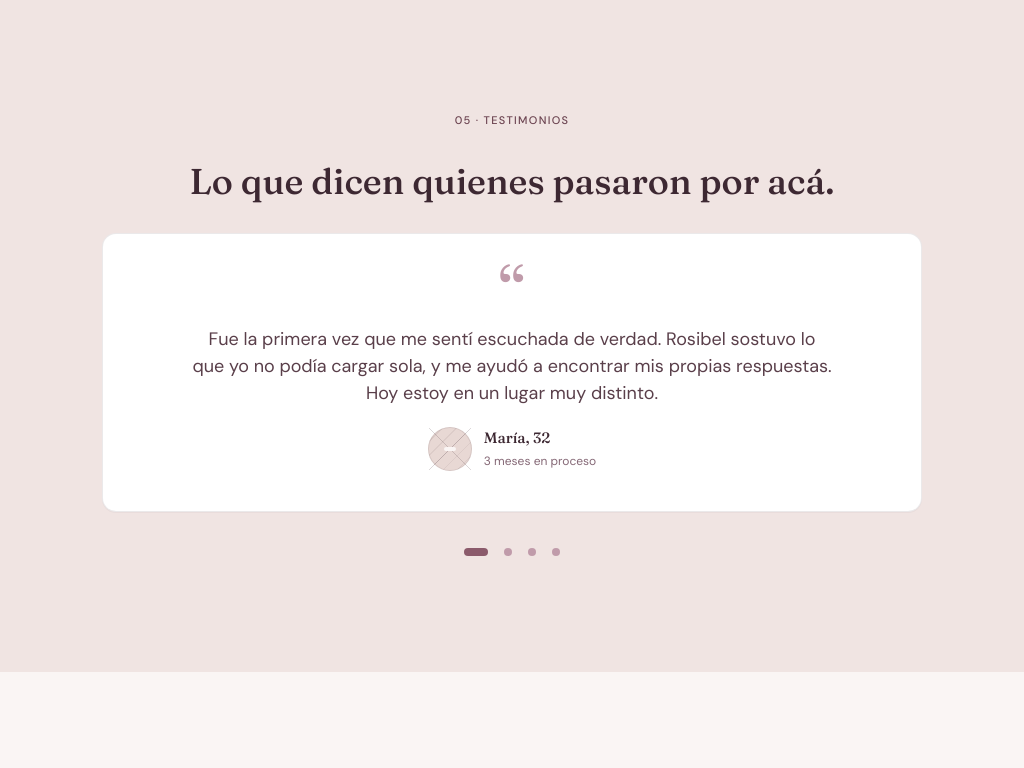
it: Testimonios section › changes testimonial when a pagination dot is clicked
Step 1. Click the button named "testimonio 3" → (532, 552), box [524, 544, 540, 560]
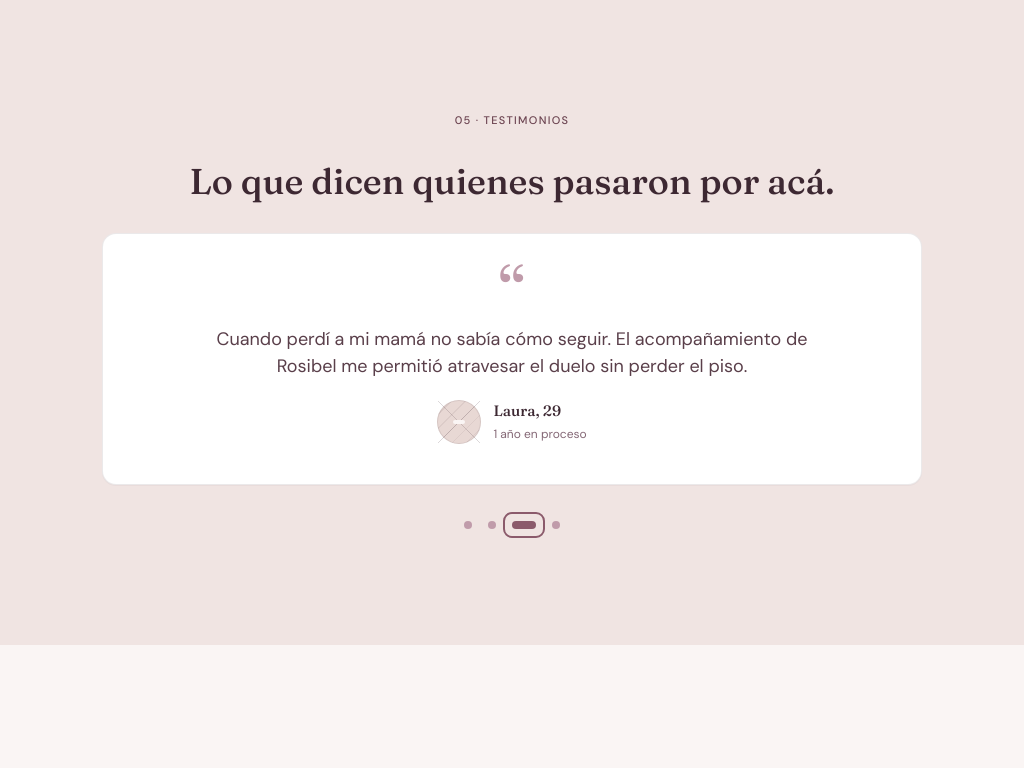
expect the text "Cuando perdí a mi mamá no sabía cómo seguir. El acompañamiento de Rosibel me permitió atravesar el duelo sin perder el p" is shown: met, box [216, 327, 807, 378]
expect the text "Fue la primera vez que me sentí escuchada de verdad. Rosibel sostuvo lo que yo no podía cargar sola, y me ayudó a encont" is gone: met
